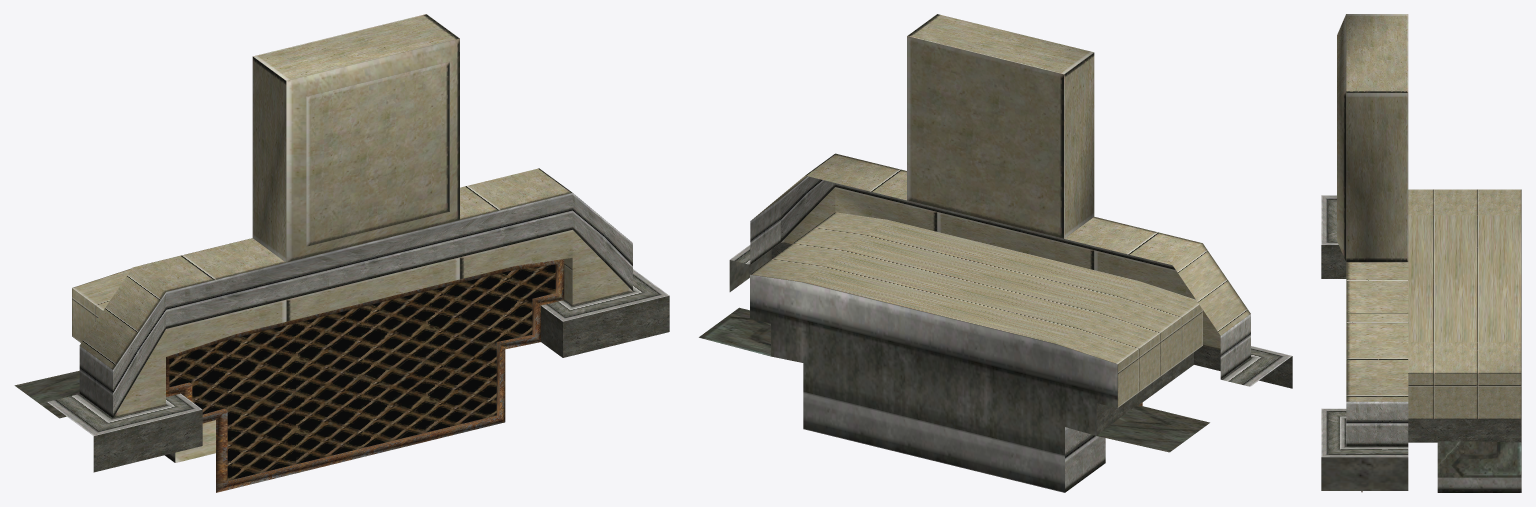
Rendered from DWARF_PALACE_WATERROOM_CANAL_VENT08.fbx.
The picture shows the model from 3 angles, left to right: view 1: azimuth 30°, elevation 25°; view 2: azimuth 150°, elevation 25°; view 3: azimuth 270°, elevation 25°; orthographic projection. The views are drawn at different scales.
Visible parts, largest first — view 1: DWARF_PALACE_WATERROOM_CANAL_VENT08; view 2: DWARF_PALACE_WATERROOM_CANAL_VENT08; view 3: DWARF_PALACE_WATERROOM_CANAL_VENT08.
Part boxes in pixels (bbox=[...]): DWARF_PALACE_WATERROOM_CANAL_VENT08: bbox=[14, 14, 669, 492]; DWARF_PALACE_WATERROOM_CANAL_VENT08: bbox=[699, 14, 1292, 492]; DWARF_PALACE_WATERROOM_CANAL_VENT08: bbox=[1321, 14, 1521, 492].
Size of the model in its own units: 49728 by 33273 by 16097.
7 materials, 7 textured.
